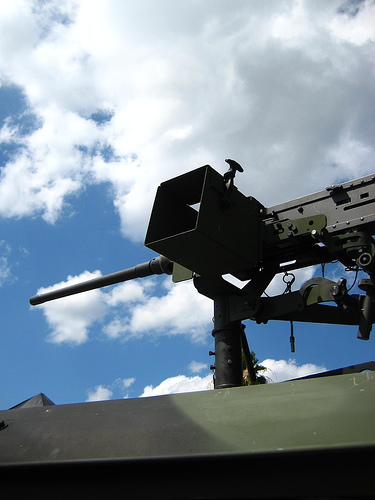rifle: (33, 174, 370, 404)
